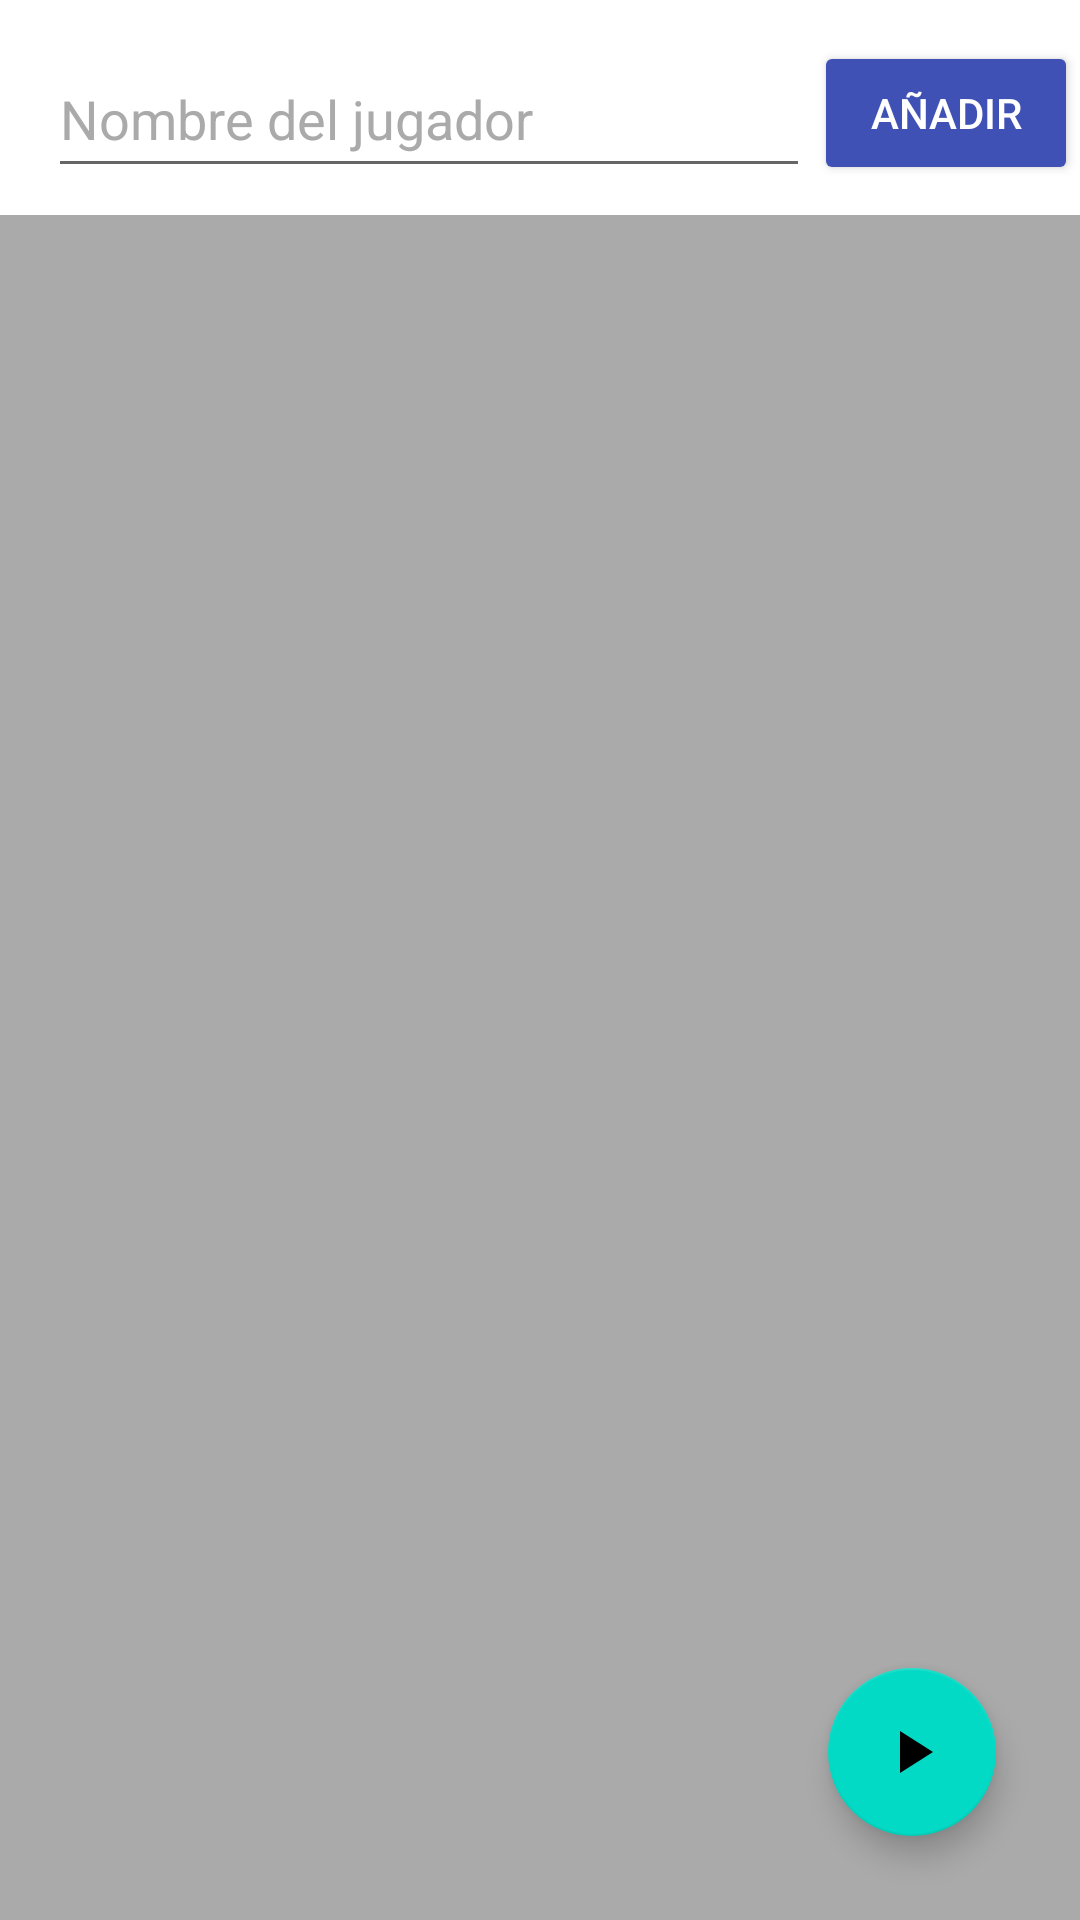

Locate icon controls on the screen. Image size 1080px×1920px, boxes as (x1, y1, x2, y2).
play arrow: (828, 1668, 996, 1836)
